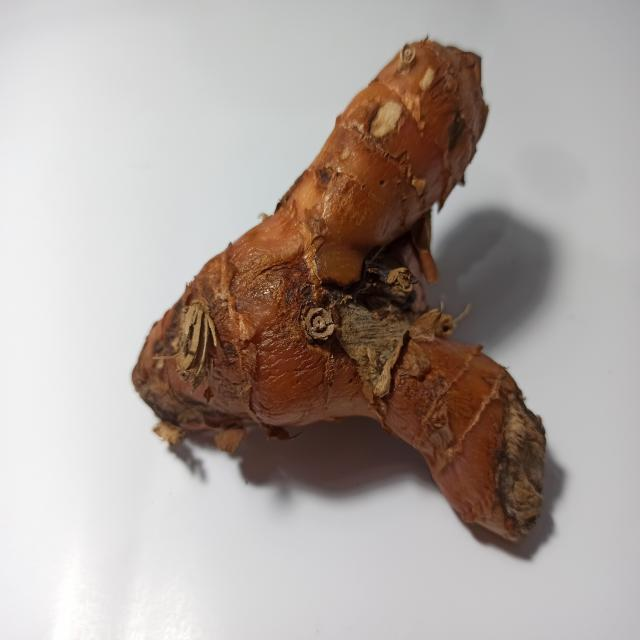ginger: (140, 57, 516, 493)
